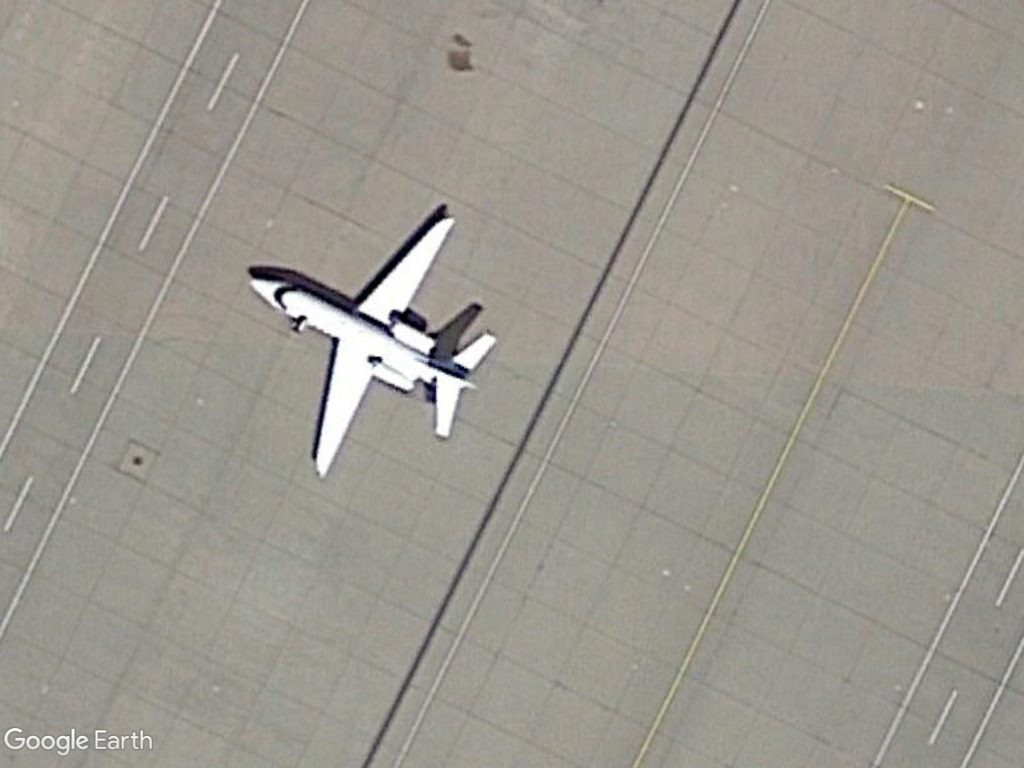chartered: (243, 213, 500, 486)
